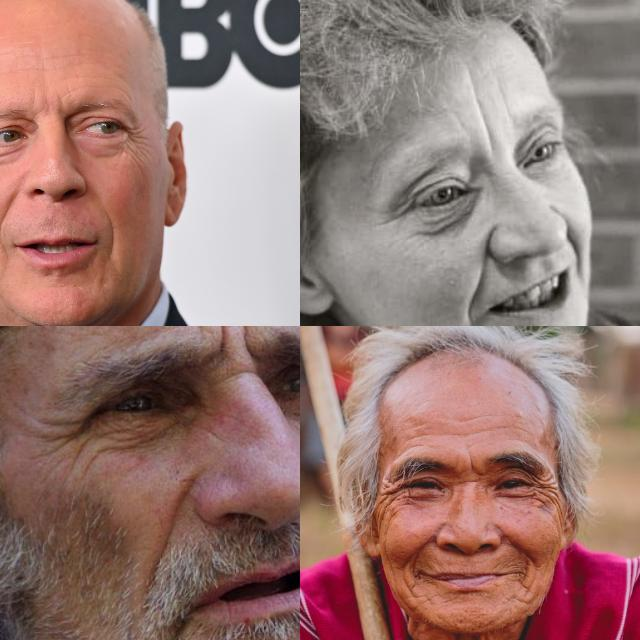crows_feet: (41, 413, 88, 451), (125, 128, 148, 170), (379, 483, 405, 513), (387, 195, 417, 219), (535, 478, 557, 508)
forehead: (464, 76, 490, 126), (454, 414, 506, 436), (44, 48, 82, 72)
frown_line: (211, 326, 254, 361), (29, 92, 66, 116)
gummy_smile: (155, 481, 187, 552), (464, 242, 490, 326), (560, 221, 584, 273), (104, 210, 125, 266), (507, 528, 537, 562), (0, 201, 19, 253), (409, 537, 436, 567)
sad_smile: (400, 577, 420, 615), (518, 574, 536, 610)
